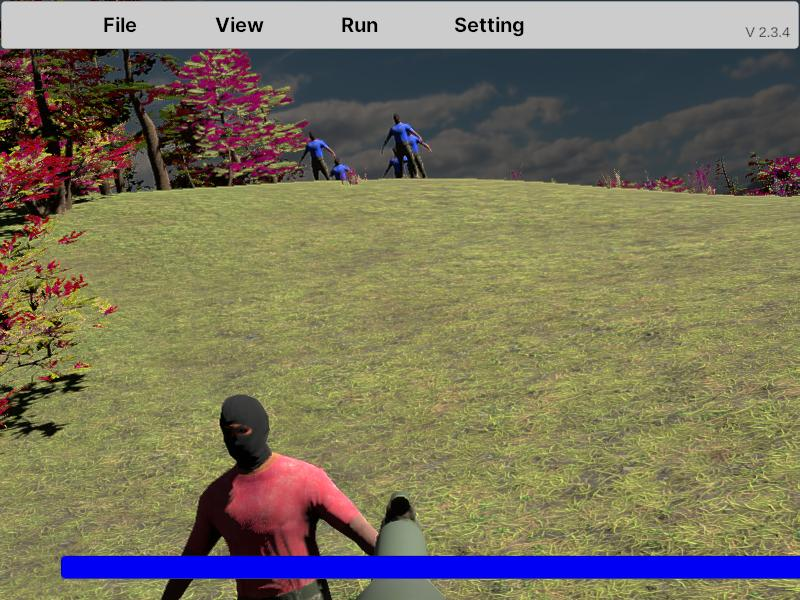Human: (154, 390, 396, 599), (381, 113, 421, 182), (300, 129, 336, 191)
